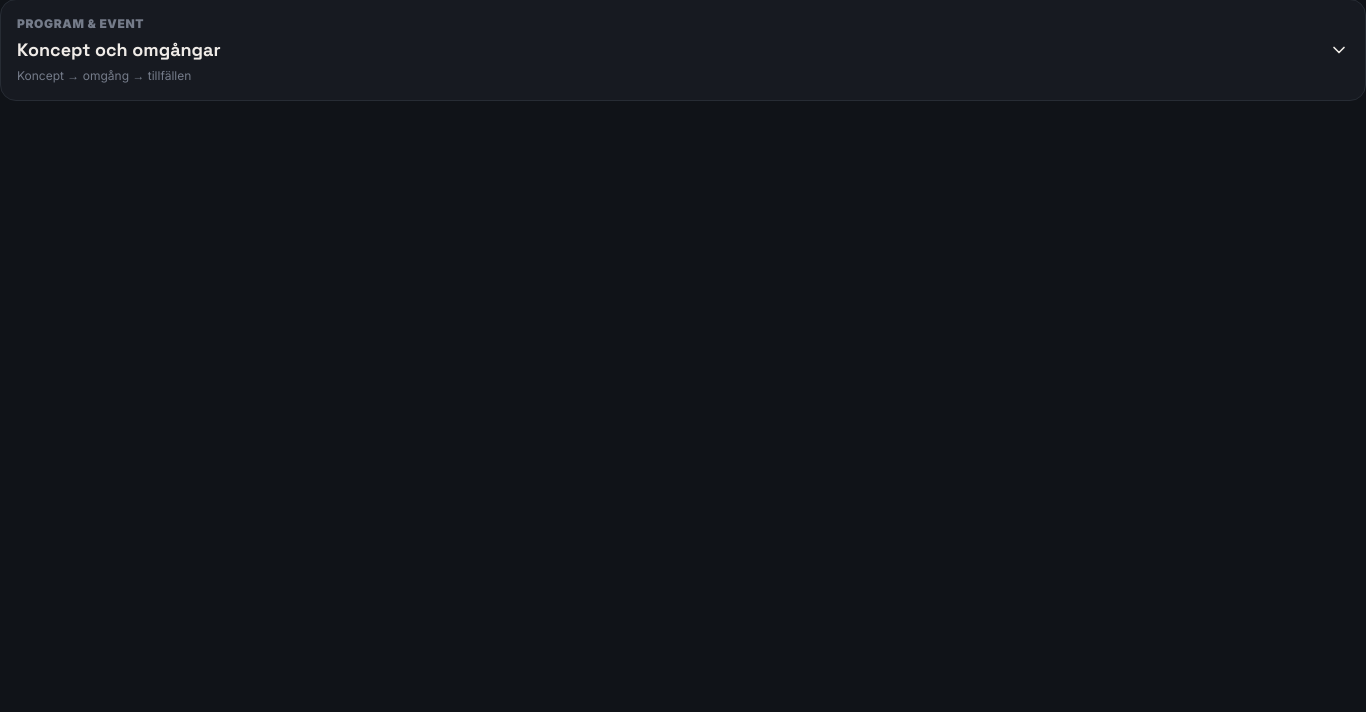
Course V1 Admin › grants an identified participant a non-financial Series place with a required reason
Later steps or results of the test are not shown.
Click the button "Program" at {"x": 81, "y": 24}, box [17,16,1349,84]
(page scrolled)
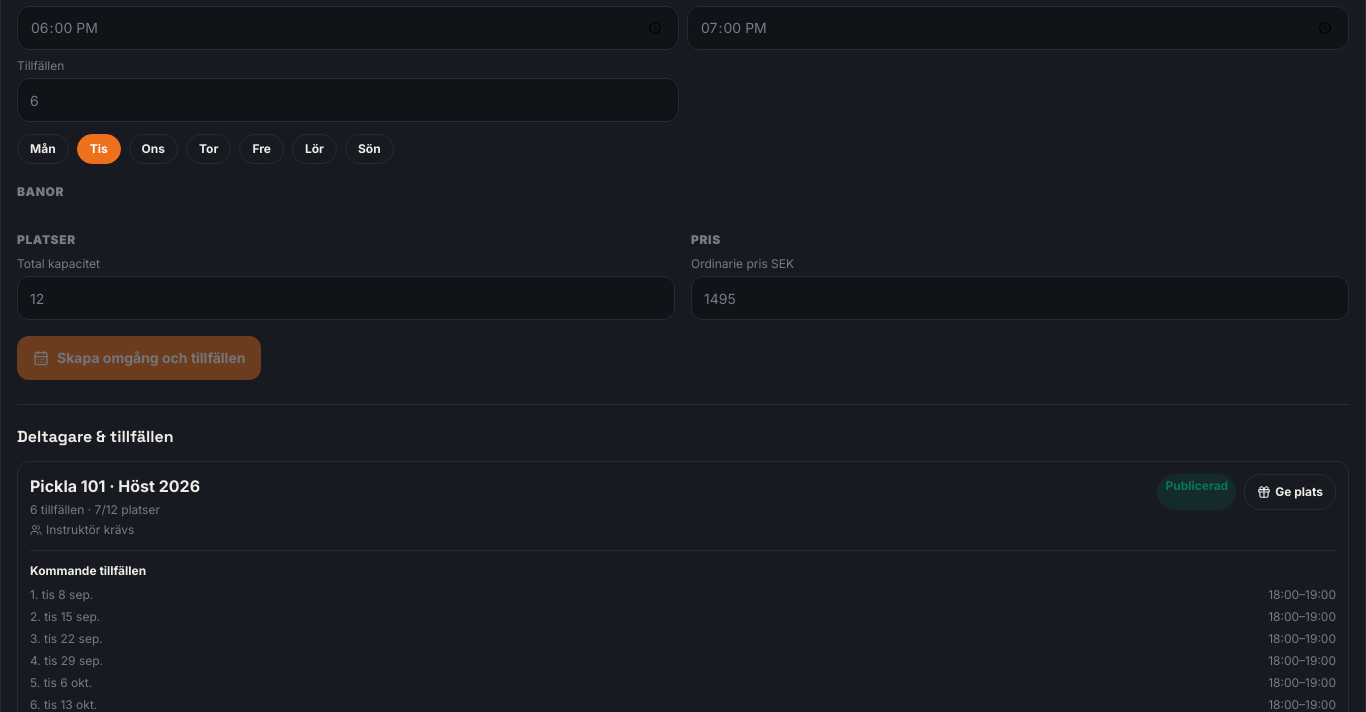
Click the button "Ge plats" at {"x": 1290, "y": 492}, box [1244,474,1336,510]
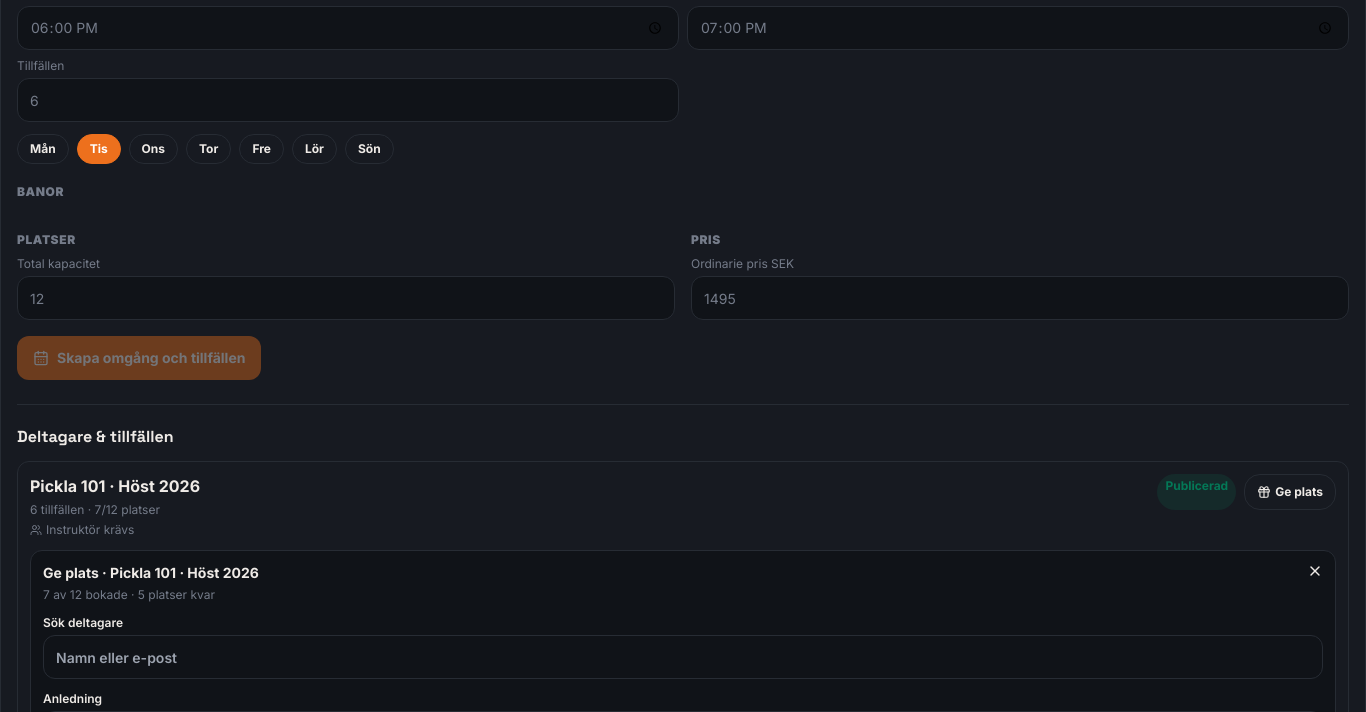
Expected: the text "7 av 12 bokade · 5 platser kvar" is shown, [43,587,215,602]
